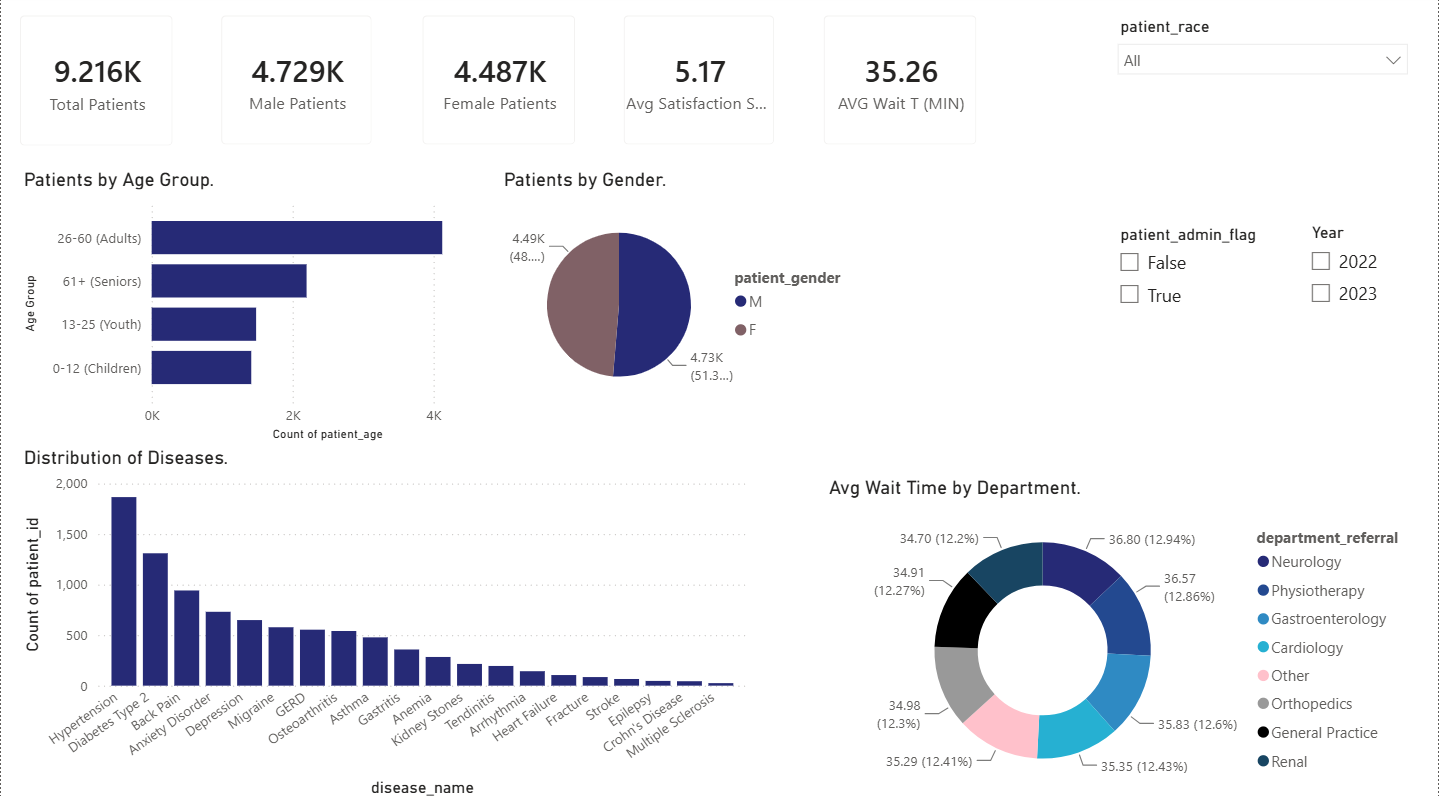

The dashboard page shown, as its layout file describes it:
{"tool":"powerbi","page":{"name":"Page 1","canvas":[1280,720],"ordinal":0},"visuals":[{"type":"cardVisual","fields":{"Data":["Count(Data.patient_id)"]},"box":[0,2.3,170,150],"z":0},{"type":"slicer","fields":{"Values":["Calendar.Date.Variation.Date Hierarchy.Year"]},"box":[1154,199,126.2,93.3],"z":2000},{"type":"cardVisual","fields":{"Data":["CountNonNull(Data.patient_gender)"]},"box":[179.6,2.5,168.8,149.6],"z":3000},{"type":"clusteredBarChart","title":"Patients by Age Group.","fields":{"Category":["Data.Age Group"],"Y":["CountNonNull(Data.patient_age)"]},"box":[15.1,155.1,444.6,248.4],"z":4000},{"type":"cardVisual","fields":{"Data":["CountNonNull(Data.patient_gender)"]},"box":[358.1,2.5,170.2,149.6],"z":5000},{"type":"cardVisual","fields":{"Data":["Data.AVG Wait Time"]},"box":[716.3,2.5,170.2,149.6],"z":6000},{"type":"cardVisual","fields":{"Data":["Data.AVG Score"]},"box":[537.9,2.5,168.8,149.6],"z":7000},{"type":"slicer","fields":{"Values":["Data.patient_race"]},"box":[983.9,15.1,278.6,163.3],"z":9000},{"type":"slicer","fields":{"Values":["Data.patient_admin_flag"]},"box":[983.9,200.3,160.5,91.9],"z":10000},{"type":"pieChart","title":"Patients by Gender.","fields":{"Category":["Data.patient_gender"],"Y":["CountNonNull(Data.patient_id)"]},"box":[443.2,155.1,317,225],"z":11000},{"type":"columnChart","title":"Distribution of Diseases.","fields":{"Category":["DiseaseTable.disease_name"],"Y":["CountNonNull(Data.patient_id)"]},"box":[15.1,403.4,653.2,317],"z":12000},{"type":"donutChart","title":"Avg Wait Time by Department.","fields":{"Category":["Data.department_referral"],"Y":["Avg(Data.patient_waittime)"]},"box":[732.8,429.5,529.7,290.9],"z":13000}]}

Visuals, with their boxes in screenshot pixels (x1, y1, x2, y2), scaled from the page's 1280x720 canvas onto the 1439x796 screenshot:
cardVisual - Count(Data.patient_id): [x1=0, y1=3, x2=191, y2=168]
slicer - Calendar.Date.Variation.Date Hierarchy.Year: [x1=1297, y1=220, x2=1438, y2=323]
cardVisual - CountNonNull(Data.patient_gender): [x1=202, y1=3, x2=392, y2=168]
"Patients by Age Group." clusteredBarChart: [x1=17, y1=171, x2=517, y2=446]
cardVisual - CountNonNull(Data.patient_gender): [x1=403, y1=3, x2=594, y2=168]
cardVisual - Data.AVG Wait Time: [x1=805, y1=3, x2=997, y2=168]
cardVisual - Data.AVG Score: [x1=605, y1=3, x2=794, y2=168]
slicer - Data.patient_race: [x1=1106, y1=17, x2=1419, y2=197]
slicer - Data.patient_admin_flag: [x1=1106, y1=221, x2=1287, y2=323]
"Patients by Gender." pieChart: [x1=498, y1=171, x2=855, y2=420]
"Distribution of Diseases." columnChart: [x1=17, y1=446, x2=751, y2=795]
"Avg Wait Time by Department." donutChart: [x1=824, y1=475, x2=1419, y2=795]
